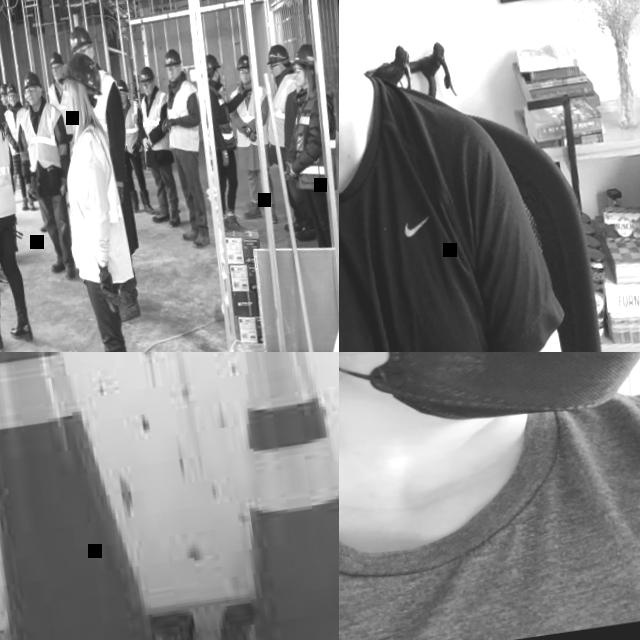Hardhat: (54, 50, 103, 103), (66, 24, 94, 54), (287, 43, 315, 71), (264, 44, 290, 65), (20, 70, 43, 92), (160, 48, 182, 69), (137, 66, 155, 84), (48, 51, 65, 68), (204, 54, 221, 71), (235, 54, 250, 72), (115, 78, 130, 95), (4, 82, 17, 95), (0, 82, 8, 96), (132, 74, 140, 81), (23, 92, 28, 103)
Mask: (339, 352, 640, 451), (214, 71, 221, 85)
NO-Mask: (26, 95, 39, 107), (294, 75, 305, 89), (168, 73, 181, 84), (65, 103, 72, 122), (271, 70, 281, 82), (240, 75, 251, 85), (53, 72, 63, 81), (143, 88, 153, 97), (9, 99, 16, 106), (121, 97, 127, 104), (1, 100, 6, 107)
NO-Safety Vest: (339, 373, 640, 640), (339, 86, 499, 352)
Person: (339, 352, 640, 640), (339, 0, 576, 352), (42, 46, 163, 352), (67, 21, 154, 323), (7, 66, 88, 286), (264, 40, 339, 254), (150, 46, 220, 250), (198, 49, 269, 238), (258, 43, 322, 245), (221, 52, 285, 230), (0, 69, 40, 352), (129, 64, 186, 232), (113, 75, 156, 218), (0, 80, 42, 214), (40, 49, 77, 154), (0, 81, 29, 202), (130, 73, 145, 102)
Safety Cone: (0, 352, 209, 640), (152, 352, 339, 640)
Safety Vest: (52, 120, 133, 289), (281, 91, 339, 196), (16, 99, 69, 173), (259, 72, 308, 150), (84, 65, 126, 155), (160, 80, 206, 157), (227, 83, 274, 149), (137, 89, 175, 155), (207, 82, 237, 153), (0, 111, 19, 222), (118, 98, 147, 155), (45, 82, 74, 137), (3, 105, 33, 155), (2, 109, 13, 146), (131, 83, 142, 103)
